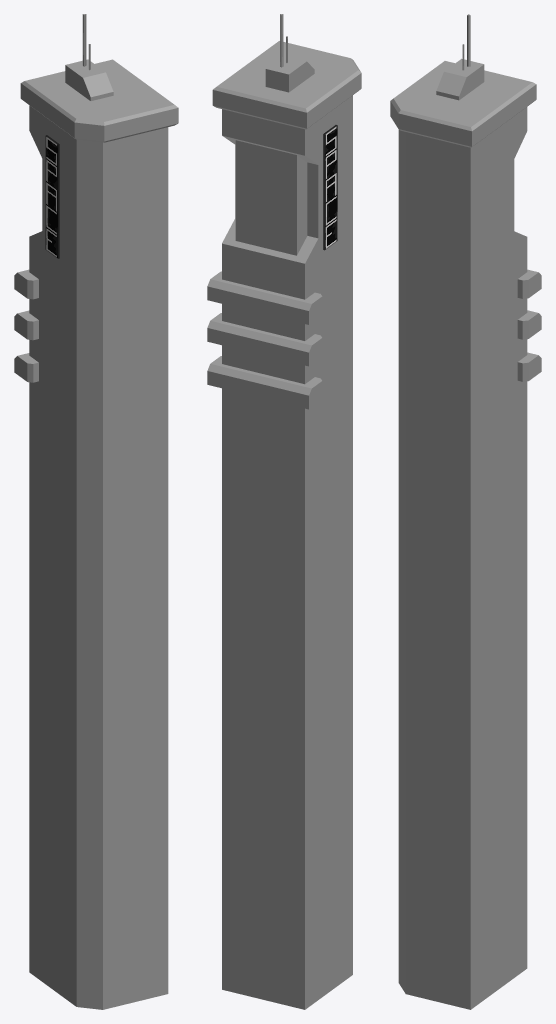
File: building01.FBX
3 renders of one model, left to right at view 1: azimuth 30°, elevation 25°; view 2: azimuth 150°, elevation 25°; view 3: azimuth 330°, elevation 25°, orthographic.
Parts seen in each view (by area): view 1: Box001; view 2: Box001; view 3: Box001.
Part boxes in pixels (x1,y1,x2,y2): Box001: (14, 14, 178, 1009); Box001: (207, 14, 361, 1009); Box001: (390, 14, 541, 1009).
Size of the model in its own units: 53.16 by 487 by 61.45.
